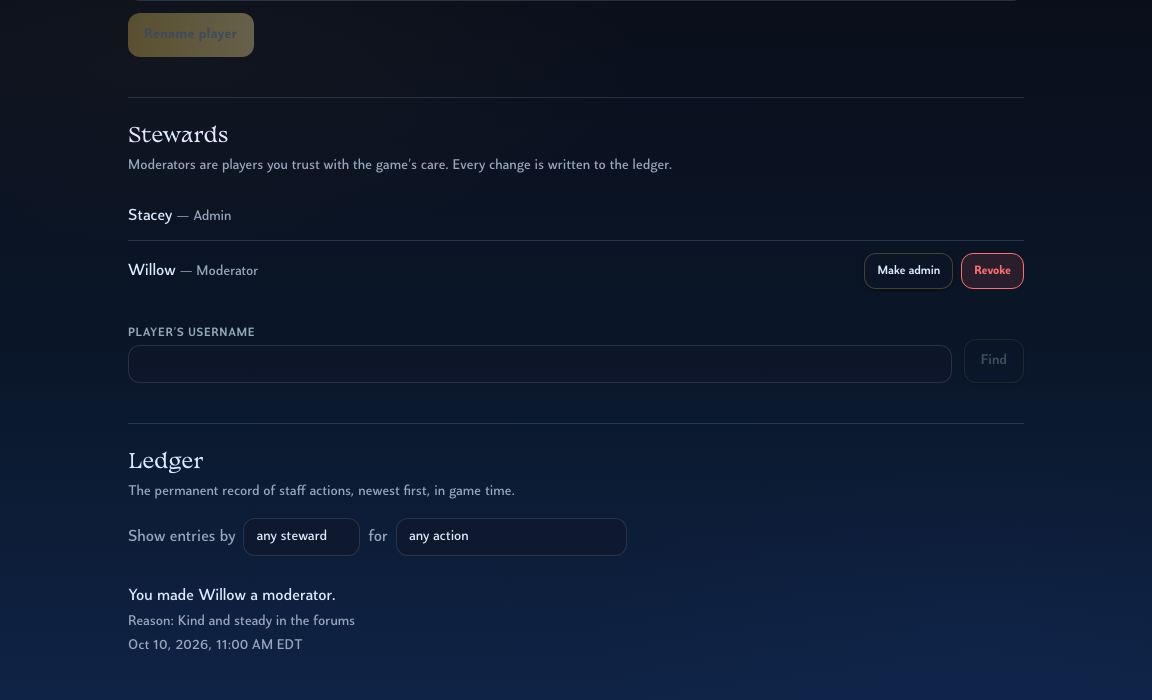
The Steward's Office › an unknown username shows an inline error at the lookup
(page scrolled)
In the field labelled "Player's username": (540, 364) [128,345,952,383], type "Nobody"
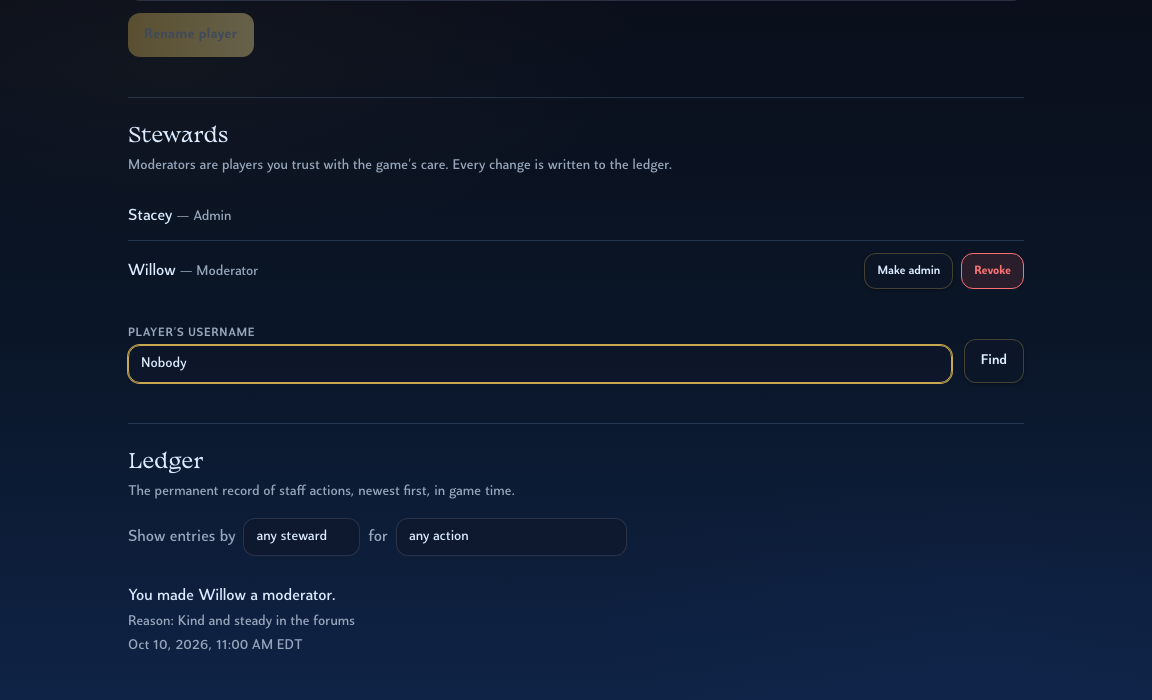
Click the button "Find": (994, 361) [964,339,1024,383]
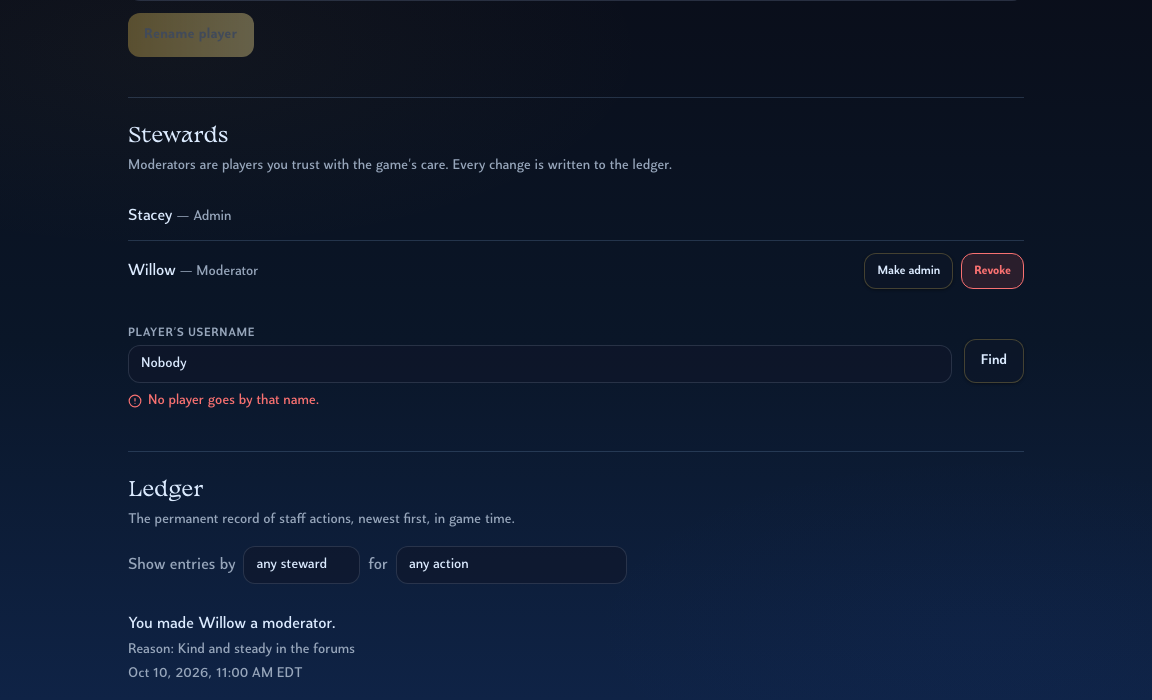
Check: the message shows "No player goes by that name", box [148,393,319,408]
